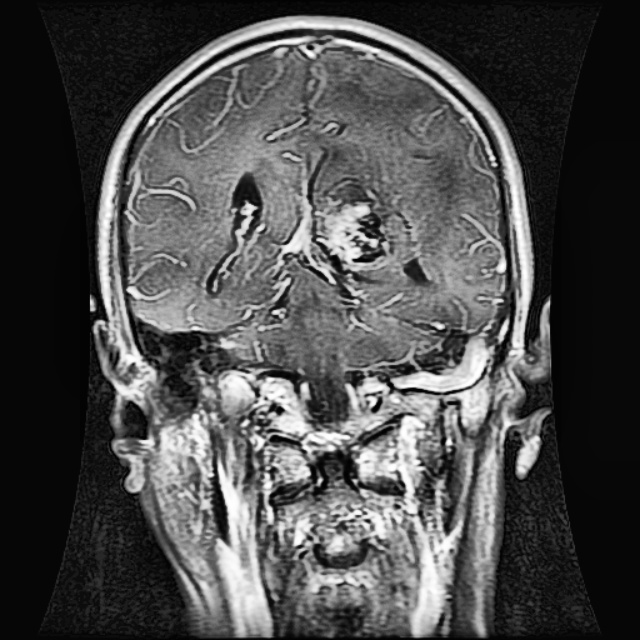Meningioma: (285, 179, 403, 299)
